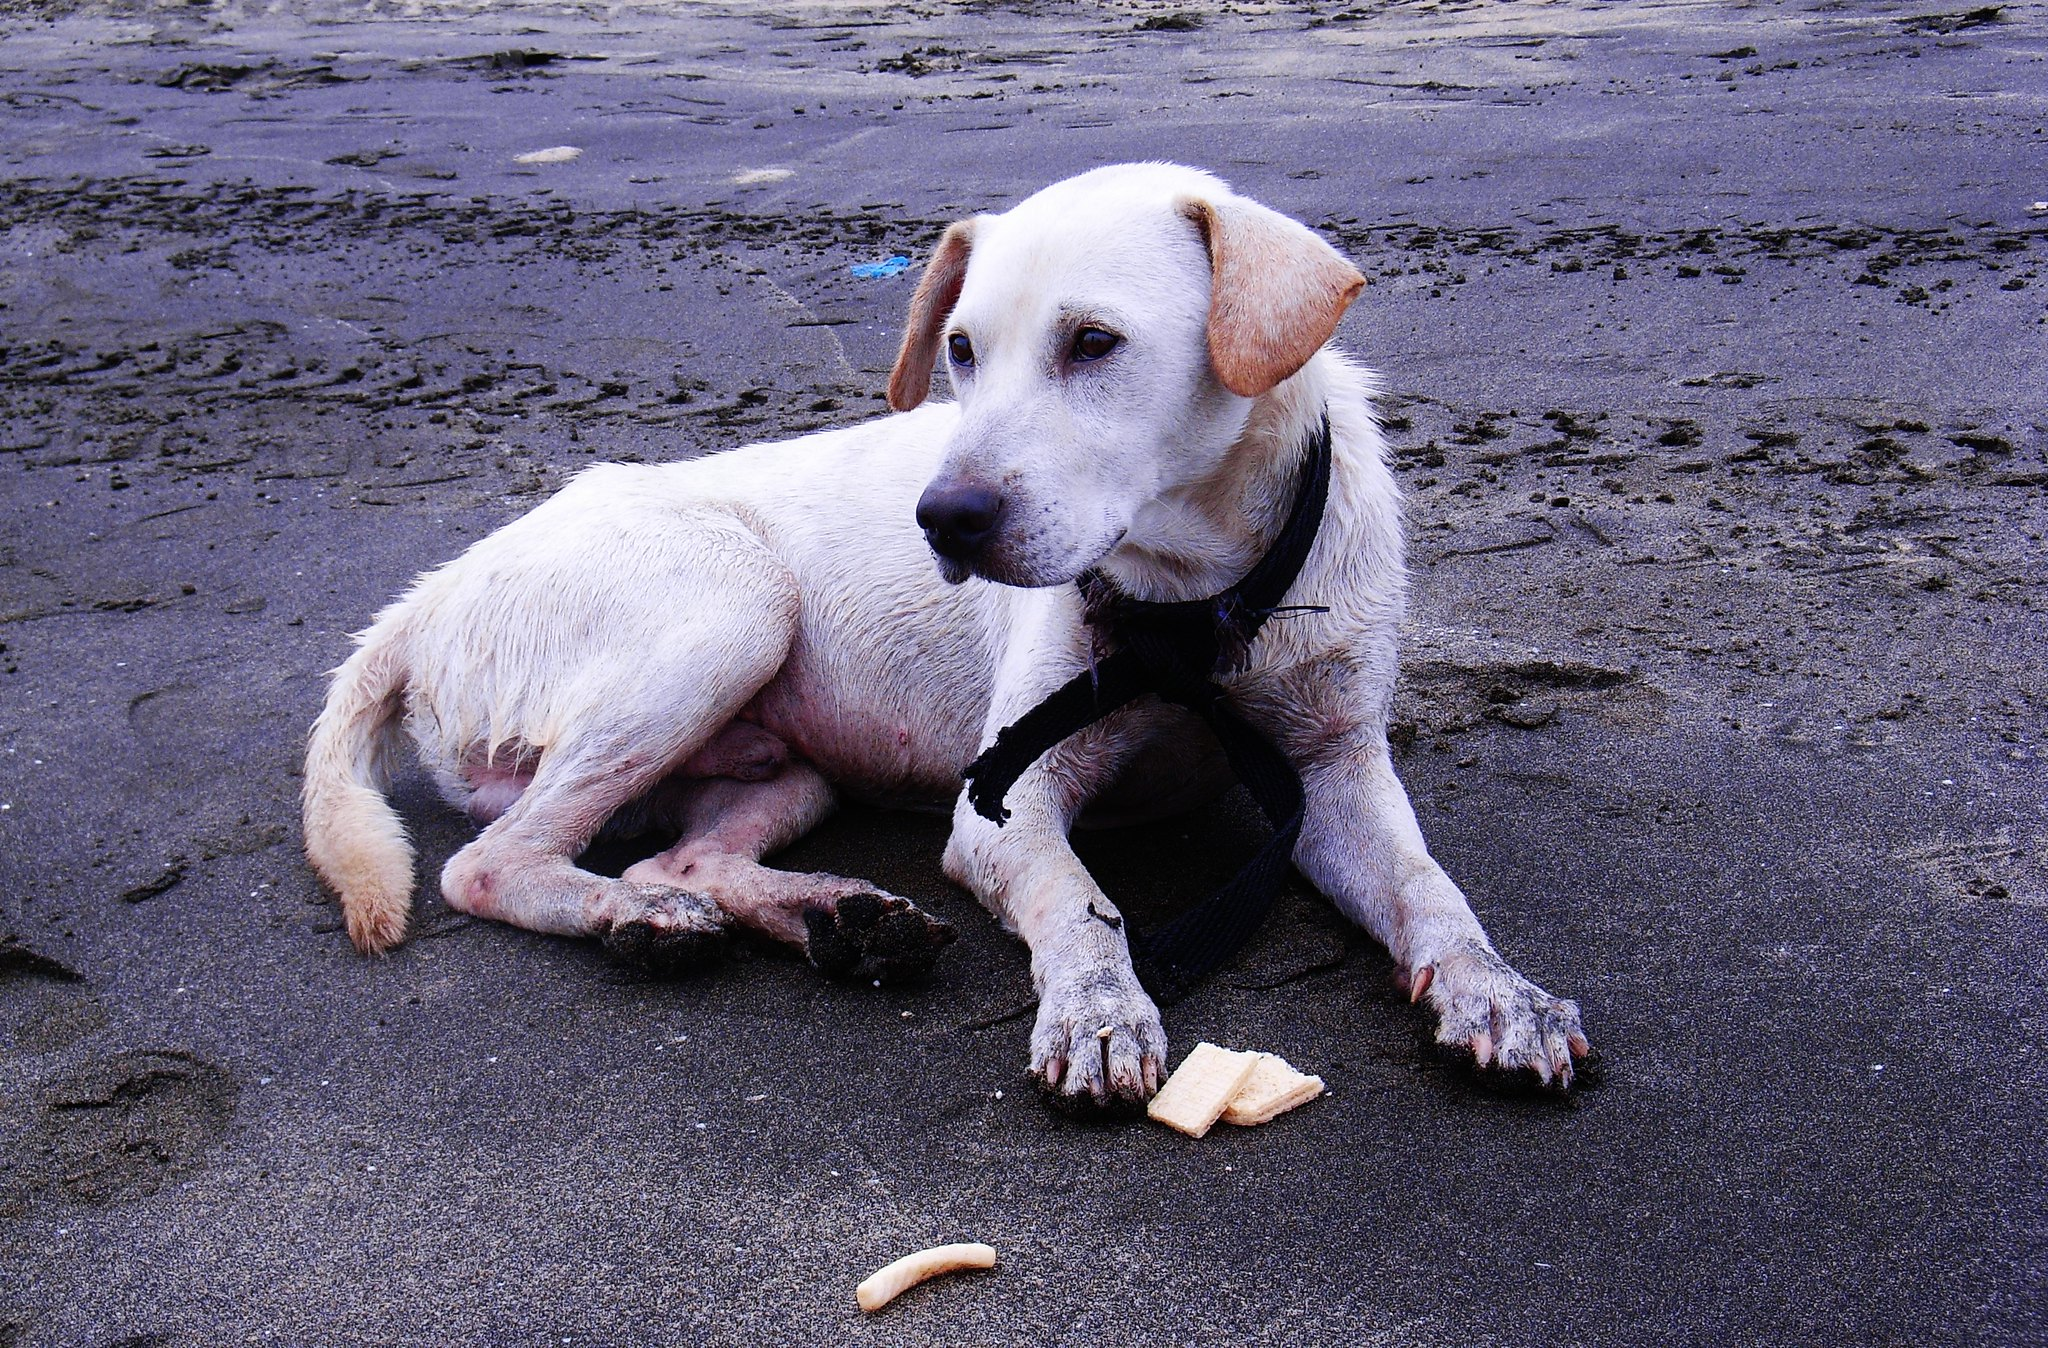dog: (290, 152, 1621, 1104)
